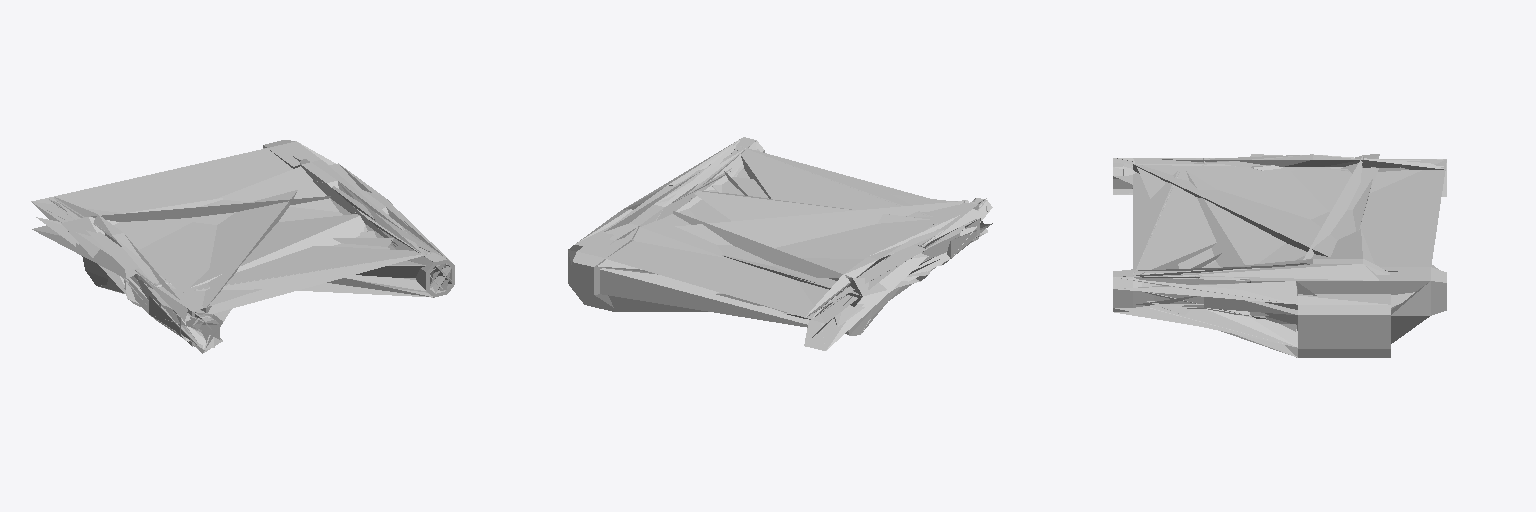
Rendered from turret3.obj.
3 renders of one model, left to right at view 1: azimuth 30°, elevation 25°; view 2: azimuth 150°, elevation 25°; view 3: azimuth 270°, elevation 25°, orthographic.
Visible parts, largest first — view 1: body1, body2, Turet; view 2: body1, body2, Turet, Turet001; view 3: body1, body2, Turet, Turet001.
Boxes of the visible parts, x1,y1,x2,y2 form: body1: [31, 148, 451, 353]; body2: [269, 140, 451, 293]; Turet: [263, 140, 454, 296]; body1: [577, 139, 992, 350]; body2: [568, 141, 759, 311]; Turet: [568, 137, 764, 310]; Turet001: [568, 138, 763, 309]; body1: [1113, 154, 1446, 346]; body2: [1115, 264, 1446, 357]; Turet: [1113, 259, 1446, 357]; Turet001: [1113, 259, 1446, 357].
Bounding box in the file's own units: 65.78 × 17.16 × 65.7.